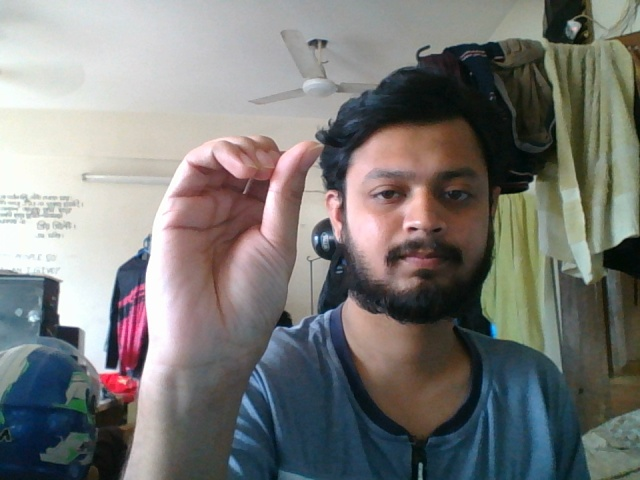ae: (135, 121, 328, 428)
